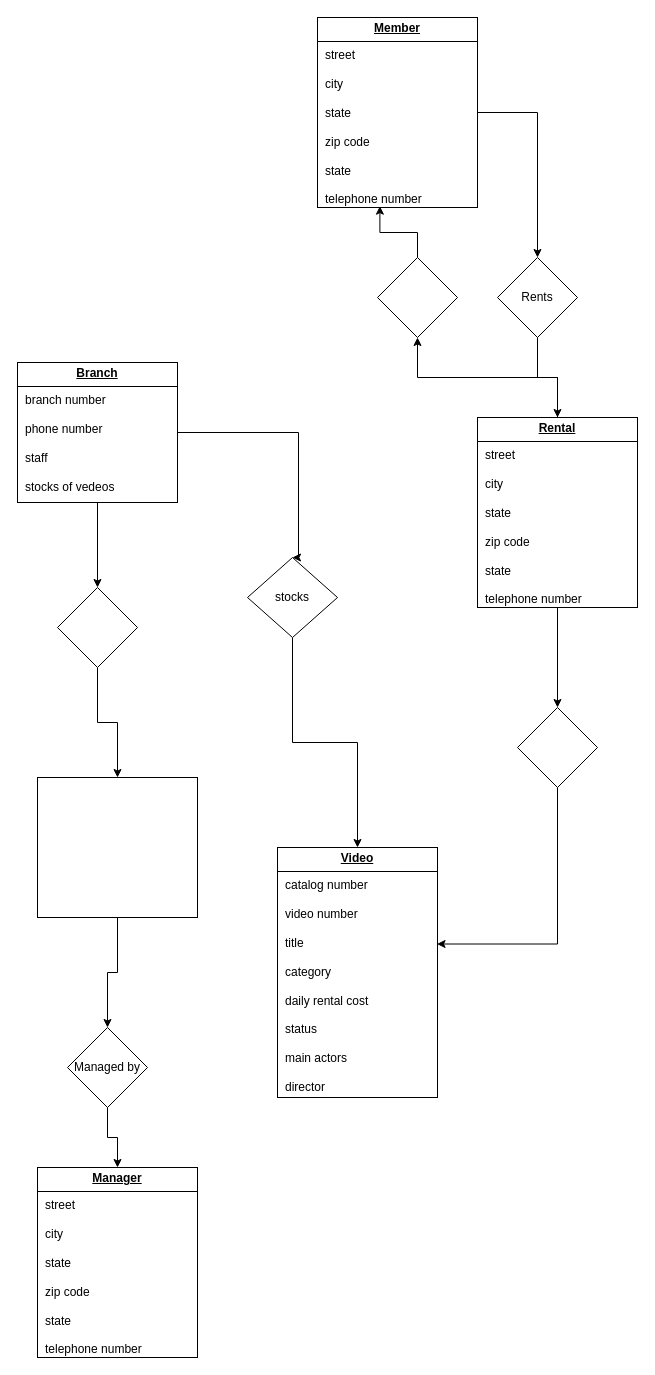
Image size: 655x1375. Some labels were removed from this diagram. Here are the shapes that lost their labels. From the top down, the centre of each, then its label:
At point (417, 297): "For".
At point (97, 627): "Manages".
At point (557, 747): "includes".
At point (117, 847): "Staff staff number name position salary".
